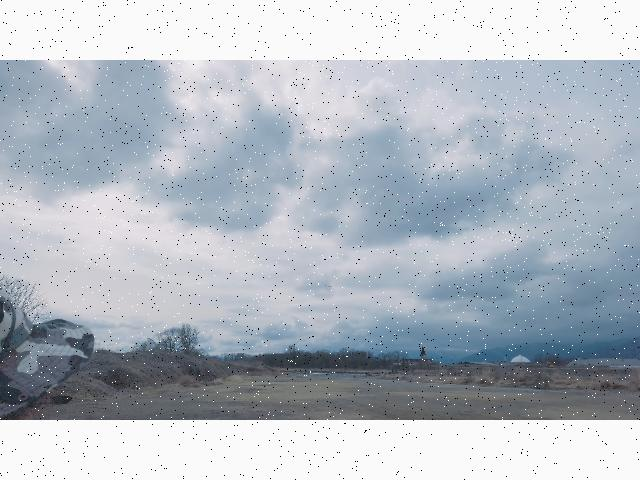Anti-Drone: (319, 280, 337, 292)
